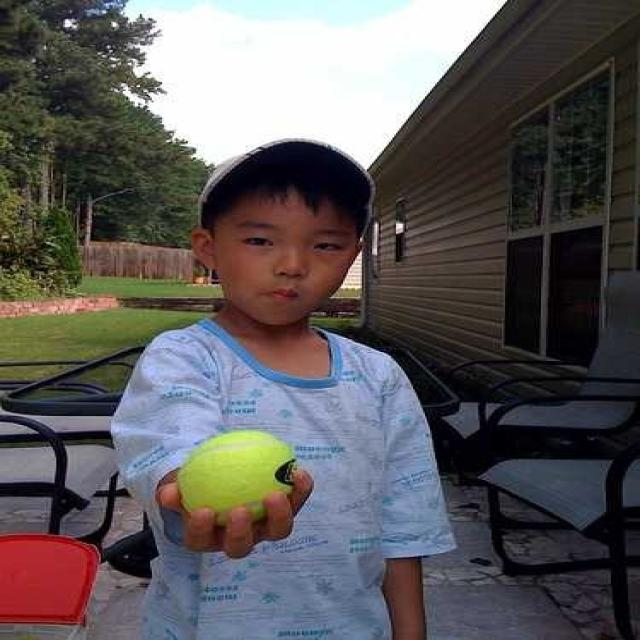Tennis_Ball: (181, 429, 290, 512)
